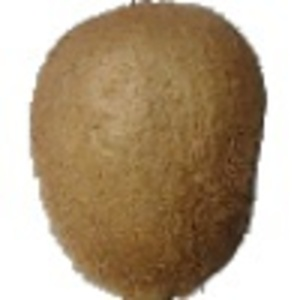kiwi: (28, 1, 269, 300)
